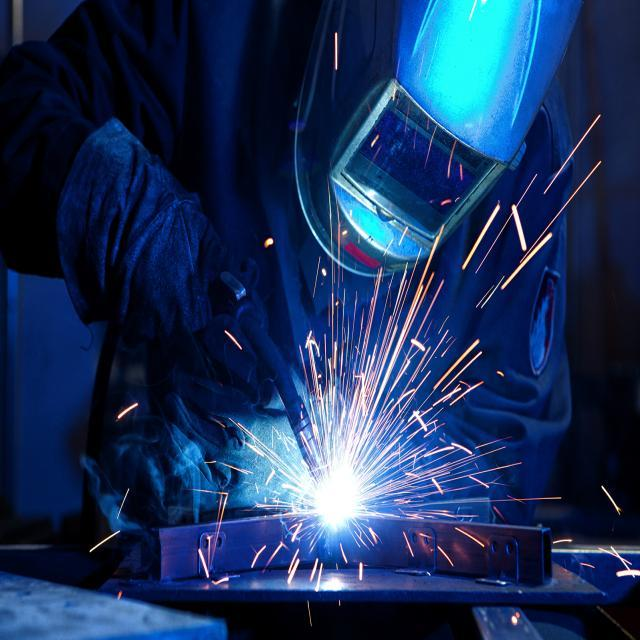with_helmet: (294, 0, 579, 277)
